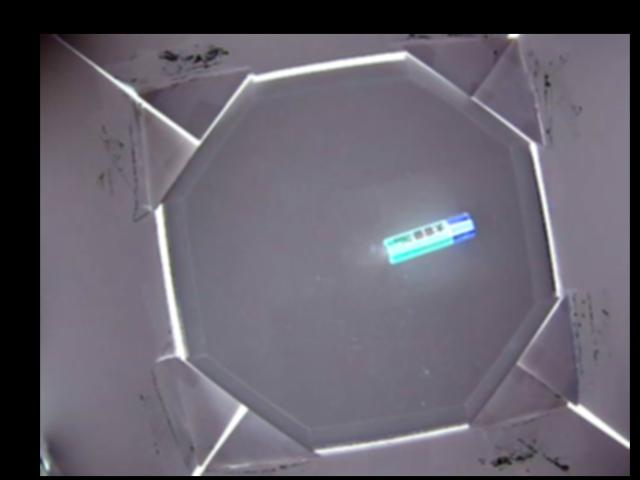Battery: (381, 210, 475, 261)
